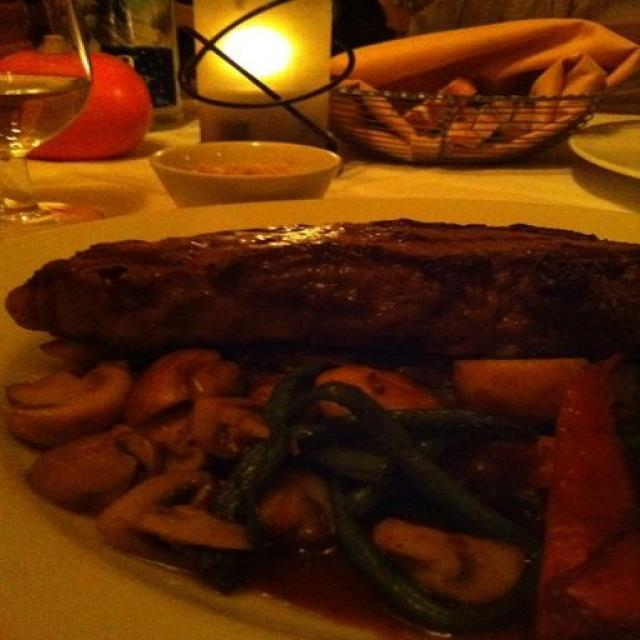Steak: (17, 202, 640, 440)
